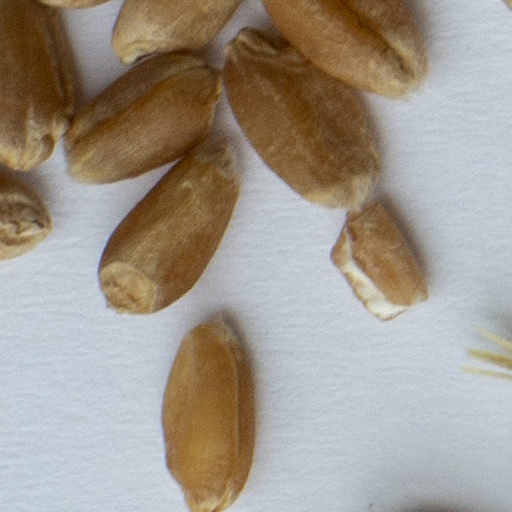Wheat-grain-damaged-poly: (330, 192, 434, 322)
